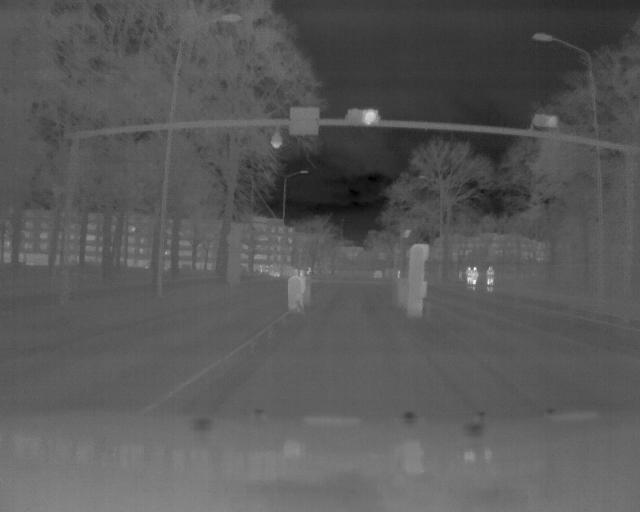person: (471, 265, 479, 289), (466, 265, 472, 285)
